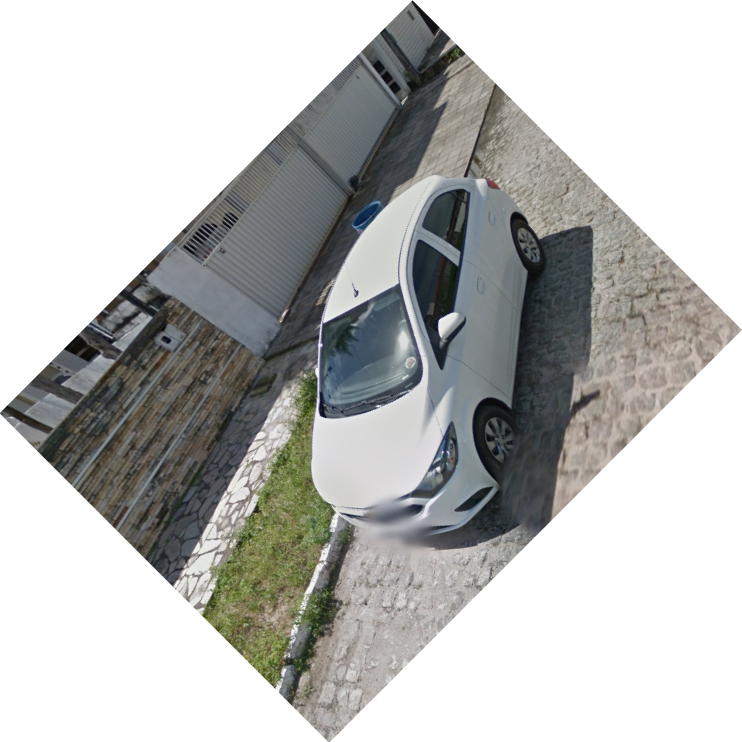car: (309, 172, 549, 547)
